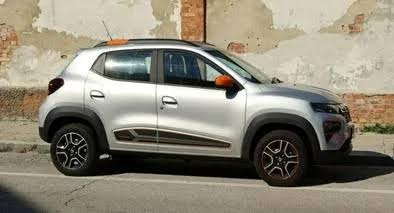car: (33, 34, 369, 185)
